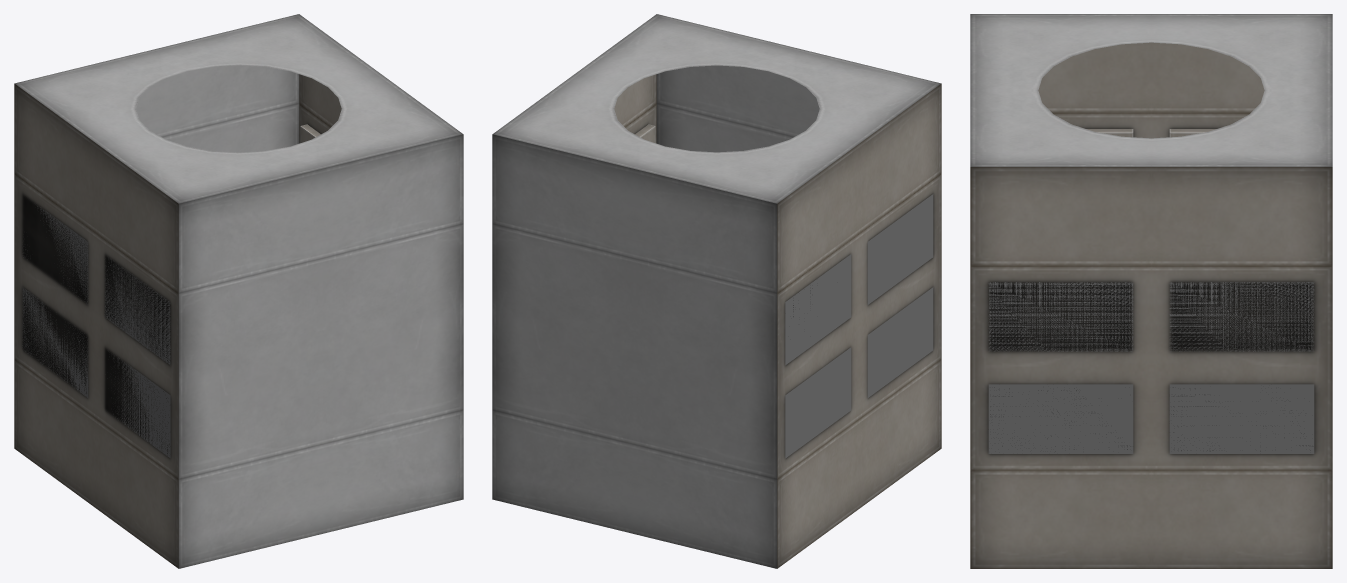
Rendered from short interior.obj.
3 views of the same model, side by side, from view 1: azimuth 30°, elevation 25°; view 2: azimuth 150°, elevation 25°; view 3: azimuth 270°, elevation 25° (orthographic). The views are drawn at different scales.
Parts seen in each view (by area): view 1: i1; view 2: i1; view 3: i1.
Part boxes in pixels (left/top/right/bottom): i1: left=14, top=14, right=463, bottom=568; i1: left=492, top=14, right=941, bottom=568; i1: left=970, top=14, right=1332, bottom=568.
Bounding box in the file's own units: 1 × 1.23 × 1.
Materials: 1 (1 with a texture image).
